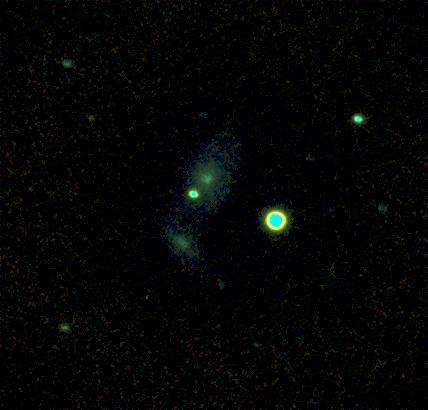star: (75, 102, 105, 132)
